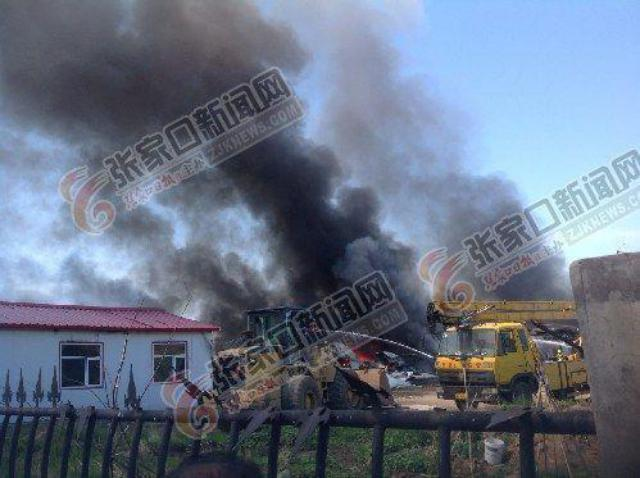smoke: (0, 0, 310, 133), (354, 2, 460, 211), (232, 140, 368, 290), (91, 194, 237, 302)
